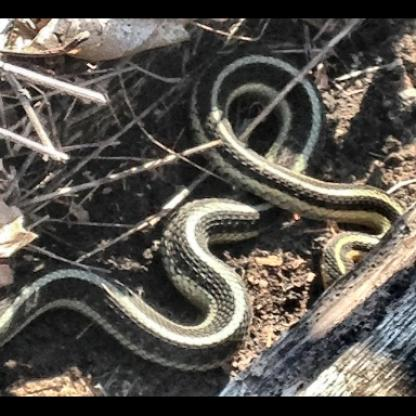Snake: (5, 53, 400, 376)
